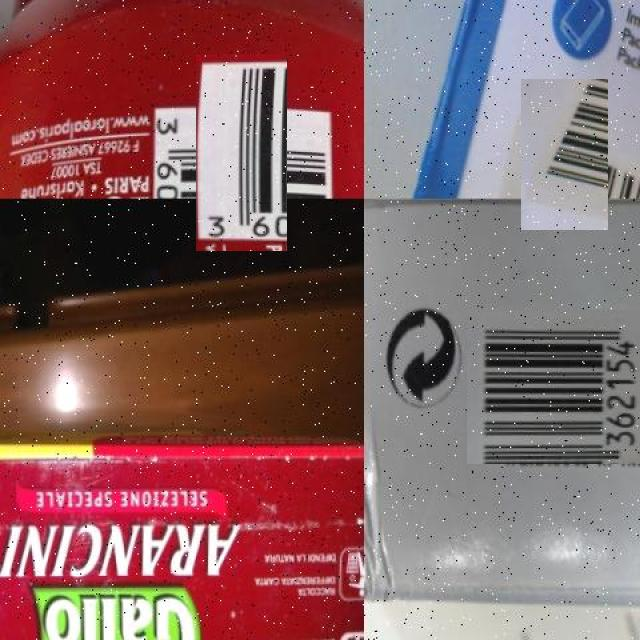Barcode: (476, 302, 640, 474), (169, 80, 314, 225), (505, 95, 624, 214)
